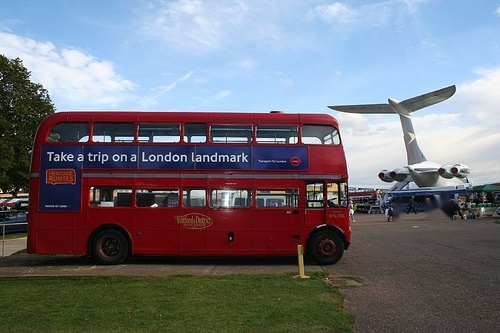aeroplane: (328, 86, 474, 192)
bus: (29, 113, 353, 266)
car: (2, 213, 28, 235)
